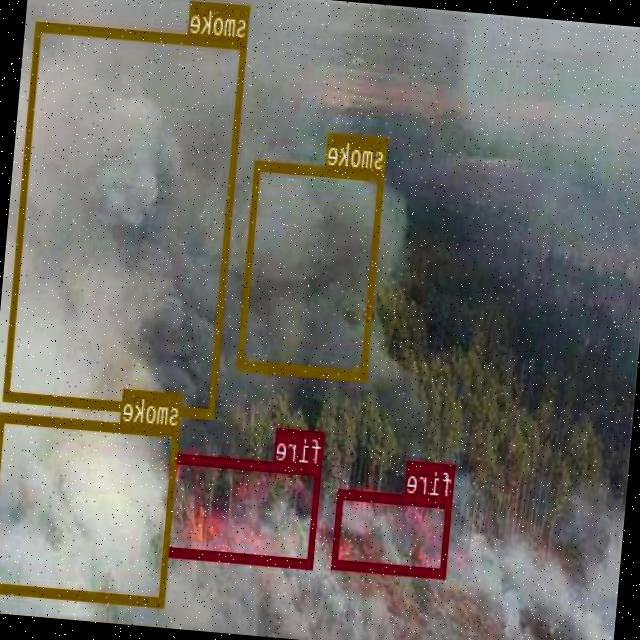fire: (165, 451, 322, 566), (333, 488, 453, 577)
smoke: (5, 19, 247, 417), (0, 410, 180, 605), (238, 160, 386, 380)
